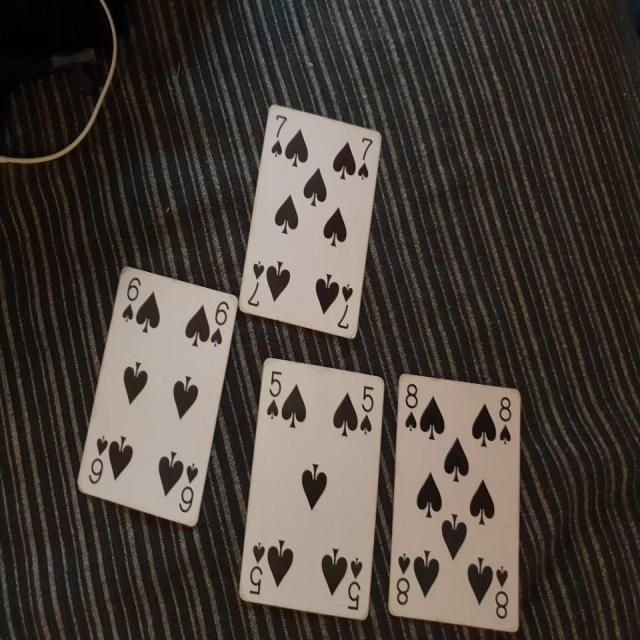5 Spades: (235, 358, 385, 626)
6 Spades: (76, 256, 239, 531)
7 Spades: (231, 98, 396, 348)
8 Spades: (383, 374, 529, 640)
